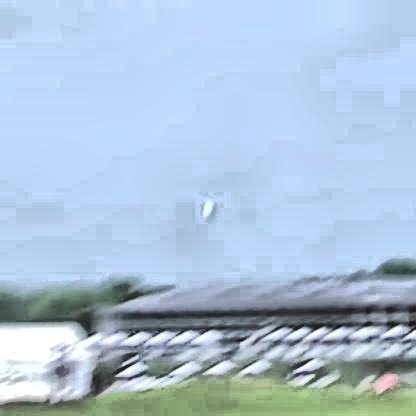golfball: (199, 191, 215, 215)
